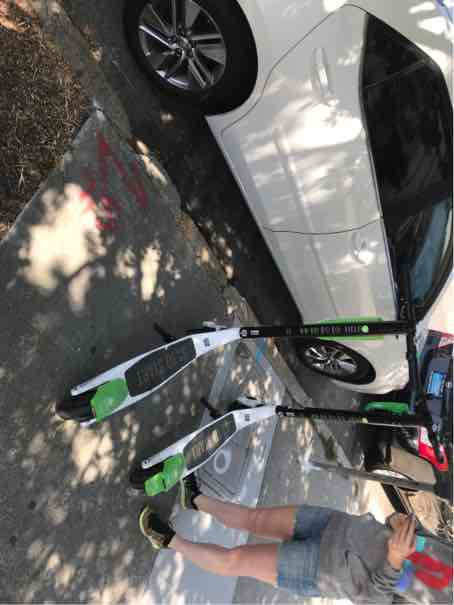scooter: (35, 258, 435, 422), (109, 364, 454, 514)
